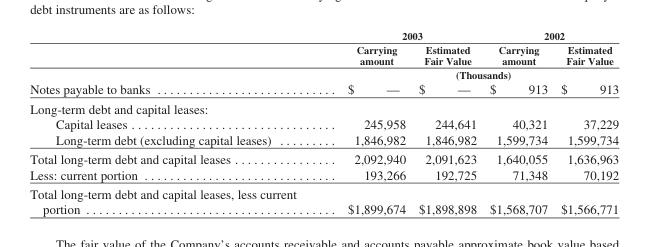table: (29, 29, 618, 216)
table column: (29, 29, 321, 216), (321, 29, 411, 216), (411, 29, 482, 216), (482, 29, 553, 216), (553, 29, 618, 216)
table column header: (29, 29, 618, 80)
table projected row header: (29, 98, 618, 115)
table row: (29, 183, 618, 216), (29, 42, 618, 66), (29, 80, 618, 98), (29, 148, 618, 166), (29, 98, 618, 115), (29, 131, 618, 148), (29, 166, 618, 183), (29, 115, 618, 131), (29, 66, 618, 80), (29, 29, 618, 42)
table spanning cell: (321, 66, 618, 80), (321, 29, 482, 42), (482, 29, 618, 42)
